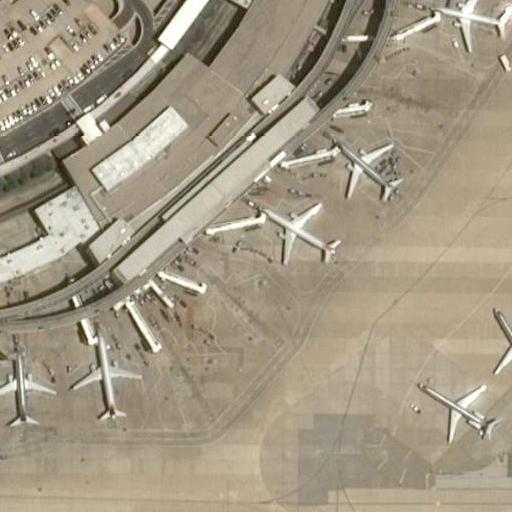Aircraft: (72, 334, 140, 424), (415, 375, 500, 443), (259, 202, 344, 266), (332, 137, 402, 198), (0, 353, 54, 432), (434, 0, 512, 51), (484, 305, 512, 387)
